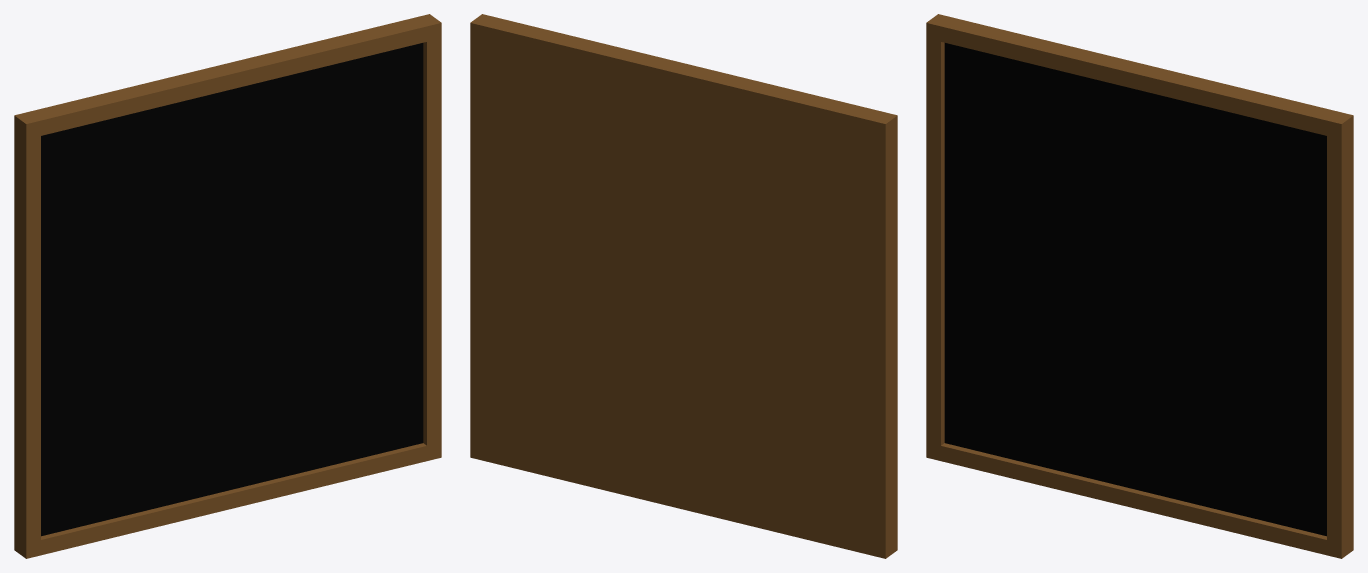
Rendered from pictureframeshiny.glb.
The picture shows the model from 3 angles, left to right: view 1: azimuth 30°, elevation 25°; view 2: azimuth 150°, elevation 25°; view 3: azimuth 330°, elevation 25°; orthographic projection.
Parts seen in each view (by area): view 1: Image, Frame; view 2: Frame; view 3: Image, Frame.
Boxes of the visible parts, x1,y1,x2,y2 form: Image: [41, 43, 423, 536]; Frame: [14, 14, 441, 558]; Frame: [470, 14, 897, 558]; Image: [944, 43, 1326, 536]; Frame: [926, 14, 1353, 558].
Bounding box in the file's own units: 2 × 2 × 0.1005.
2 materials, 1 textured.
